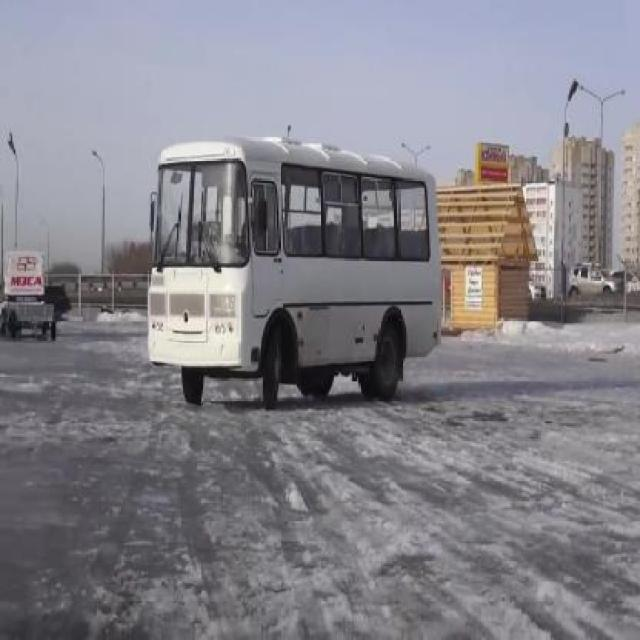bus: (148, 130, 444, 403)
